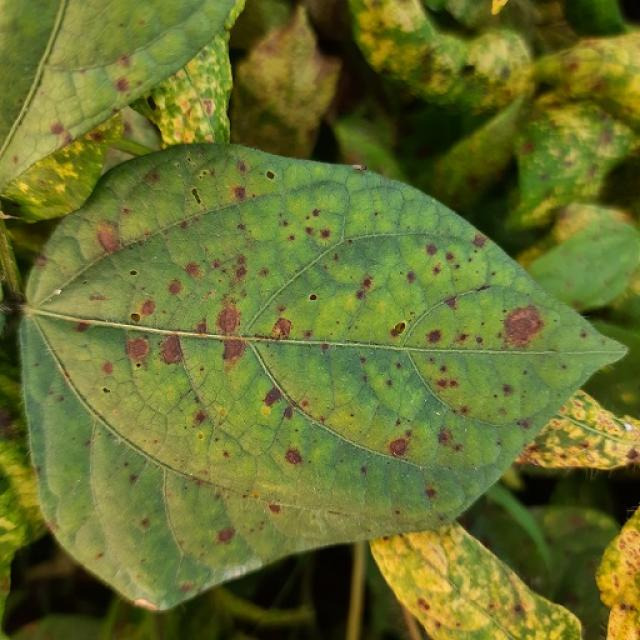Anthracnose: (486, 300, 554, 351), (27, 149, 92, 198), (419, 539, 450, 574), (591, 410, 624, 437), (96, 222, 122, 255), (215, 304, 241, 335), (618, 530, 640, 566), (125, 336, 151, 364), (221, 337, 246, 366), (159, 335, 183, 365), (1, 294, 29, 319), (354, 274, 376, 301), (270, 317, 293, 340), (263, 385, 283, 408), (0, 407, 17, 434), (388, 437, 408, 457), (216, 526, 235, 544), (598, 126, 614, 147), (434, 377, 459, 390), (284, 448, 303, 465), (134, 598, 158, 611), (185, 262, 202, 279), (192, 409, 208, 427), (140, 300, 156, 317), (426, 329, 443, 344), (115, 76, 130, 92), (168, 280, 183, 296), (471, 234, 487, 248), (443, 294, 459, 308), (146, 94, 159, 111), (417, 597, 431, 612), (50, 122, 65, 136), (191, 188, 203, 205), (232, 186, 246, 200), (101, 360, 114, 375), (572, 406, 585, 420), (461, 64, 476, 76), (203, 99, 214, 115), (425, 243, 438, 256), (424, 487, 437, 500), (517, 418, 531, 430), (282, 405, 293, 420), (235, 265, 247, 278), (393, 322, 406, 334), (626, 448, 638, 460), (513, 603, 525, 615), (406, 271, 417, 284), (268, 503, 281, 514), (180, 583, 194, 593), (130, 312, 141, 323), (319, 229, 331, 239), (265, 170, 276, 180), (140, 518, 150, 528), (198, 170, 209, 179), (261, 406, 271, 415), (622, 604, 633, 612), (312, 208, 321, 217), (101, 387, 111, 394), (219, 408, 227, 416), (252, 490, 260, 498), (309, 294, 318, 301), (129, 270, 138, 277), (197, 431, 204, 440), (95, 552, 103, 559), (187, 156, 192, 163)
Blackgram: (20, 146, 624, 608)
